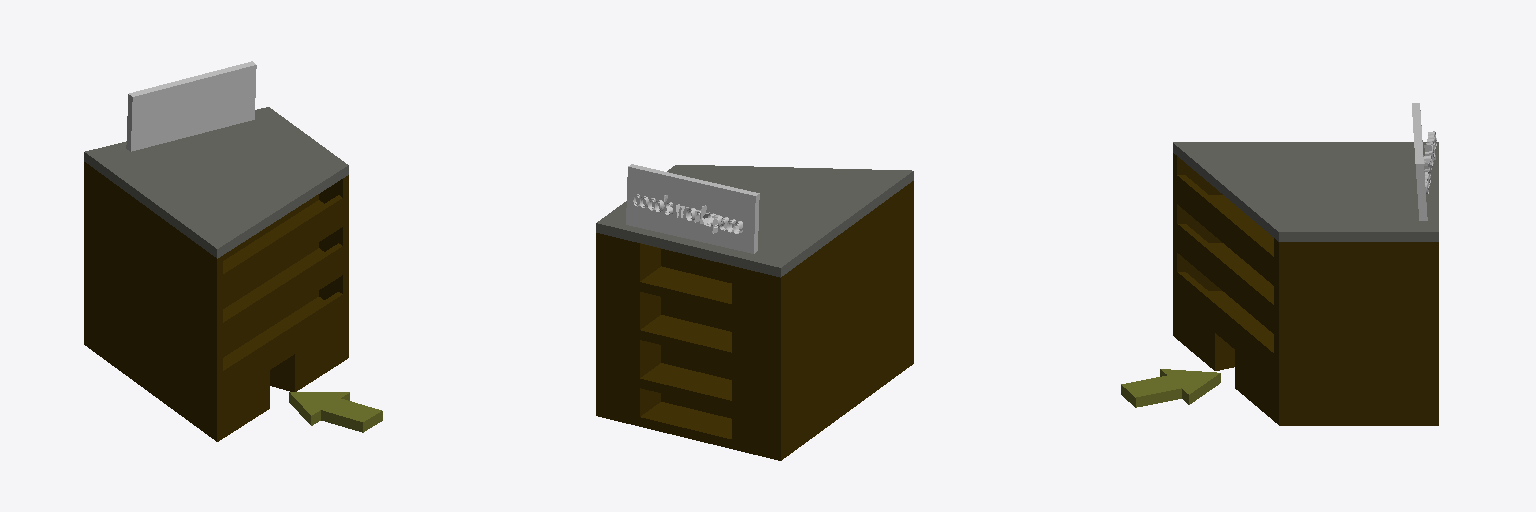
3 renders of one model, left to right at view 1: azimuth 30°, elevation 25°; view 2: azimuth 150°, elevation 25°; view 3: azimuth 270°, elevation 25°, orthographic.
Visible parts, largest first — view 1: lll5, Cube.002_Cube.003; view 2: lll5, Cube.002_Cube.003, text.002_Text.002; view 3: lll5, Cube.002_Cube.003.
Part boxes in pixels (x1,y1,x2,y2): lll5: (84,107,382,441); Cube.002_Cube.003: (126,61,256,151); lll5: (596,165,913,460); Cube.002_Cube.003: (626,164,759,253); text.002_Text.002: (633,194,742,233); lll5: (1121,142,1438,425); Cube.002_Cube.003: (1412,103,1427,220).
Bounding box in the file's own units: 20 × 25.97 × 29.83.